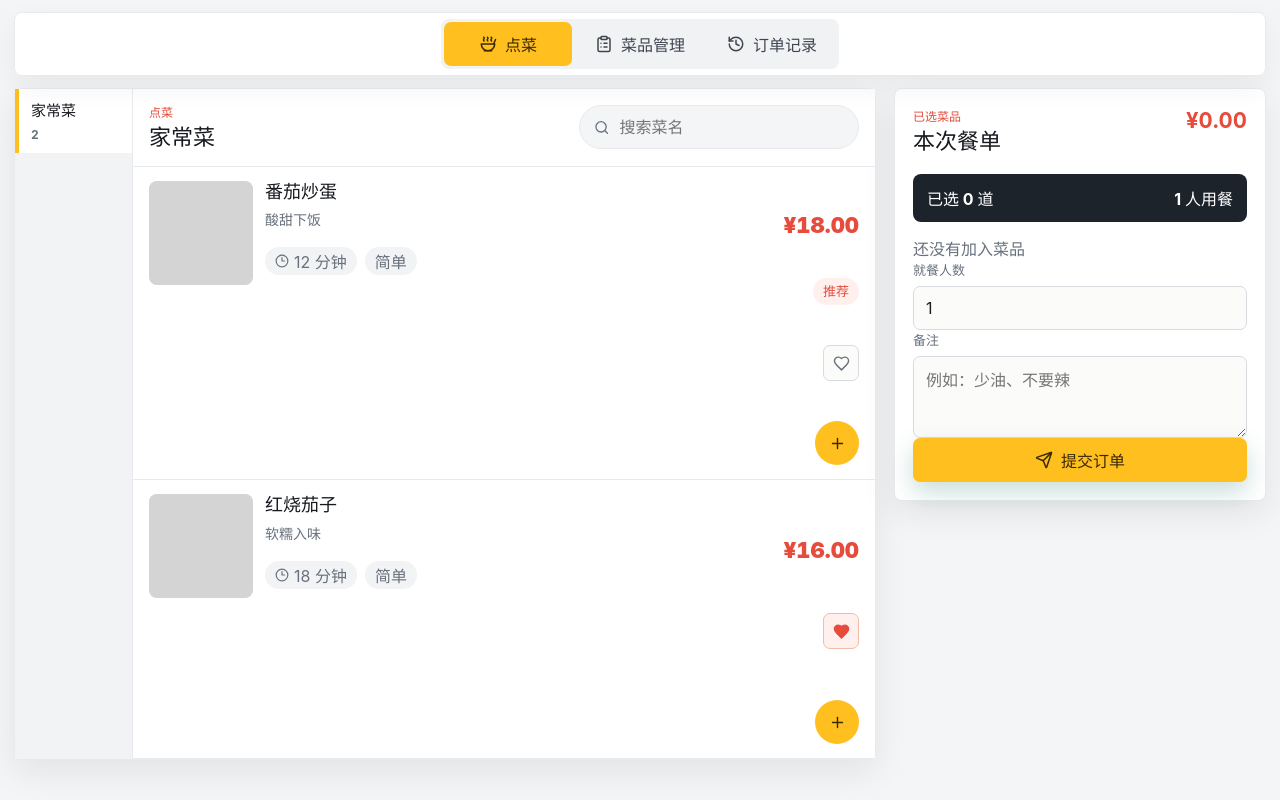
Test: App › deletes an order from order history
Expected: the text "番茄炒蛋" is shown, top-left (265, 180), bottom-right (337, 202)
Click the button "订单记录": (772, 44) top-left (708, 22), bottom-right (836, 66)
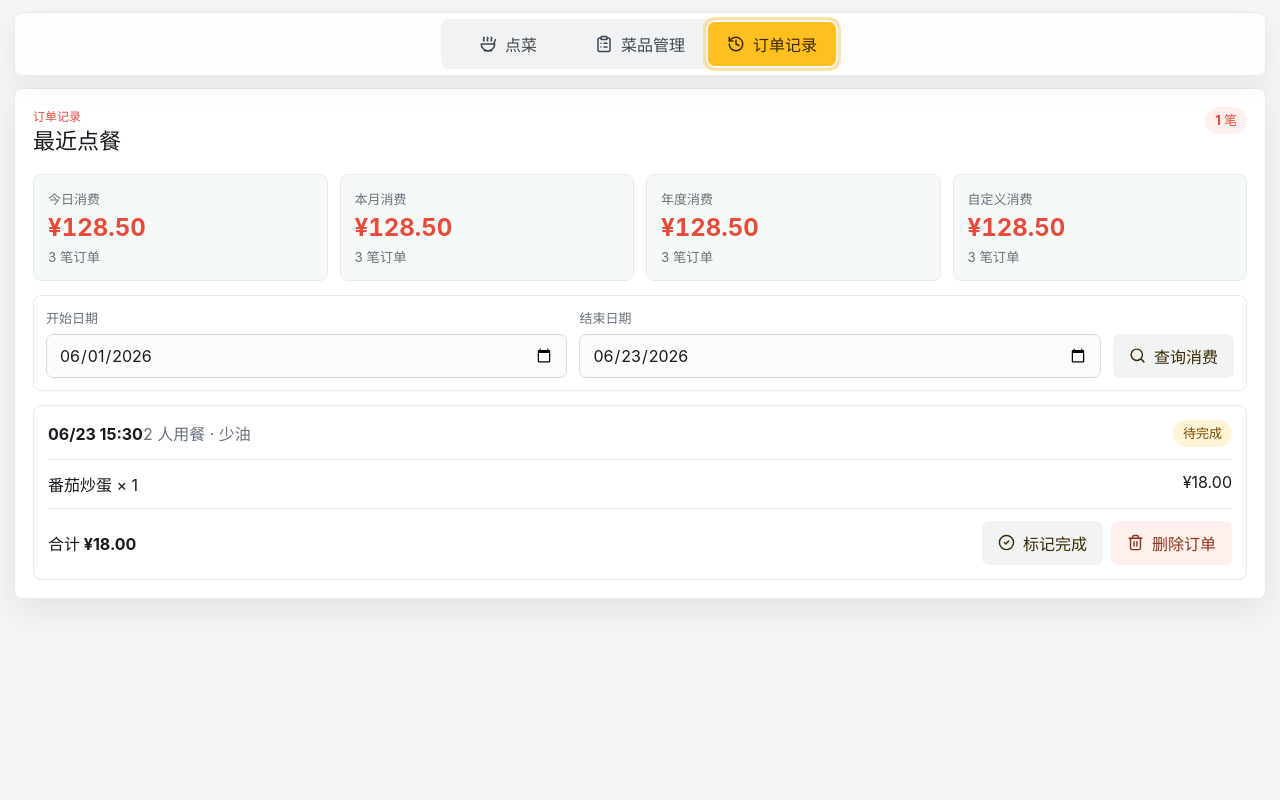
Now the text "番茄炒蛋 × 1" is shown, box top-left (48, 472), bottom-right (138, 496)
Click the button "删除订单": (1172, 542) top-left (1111, 520), bottom-right (1232, 564)
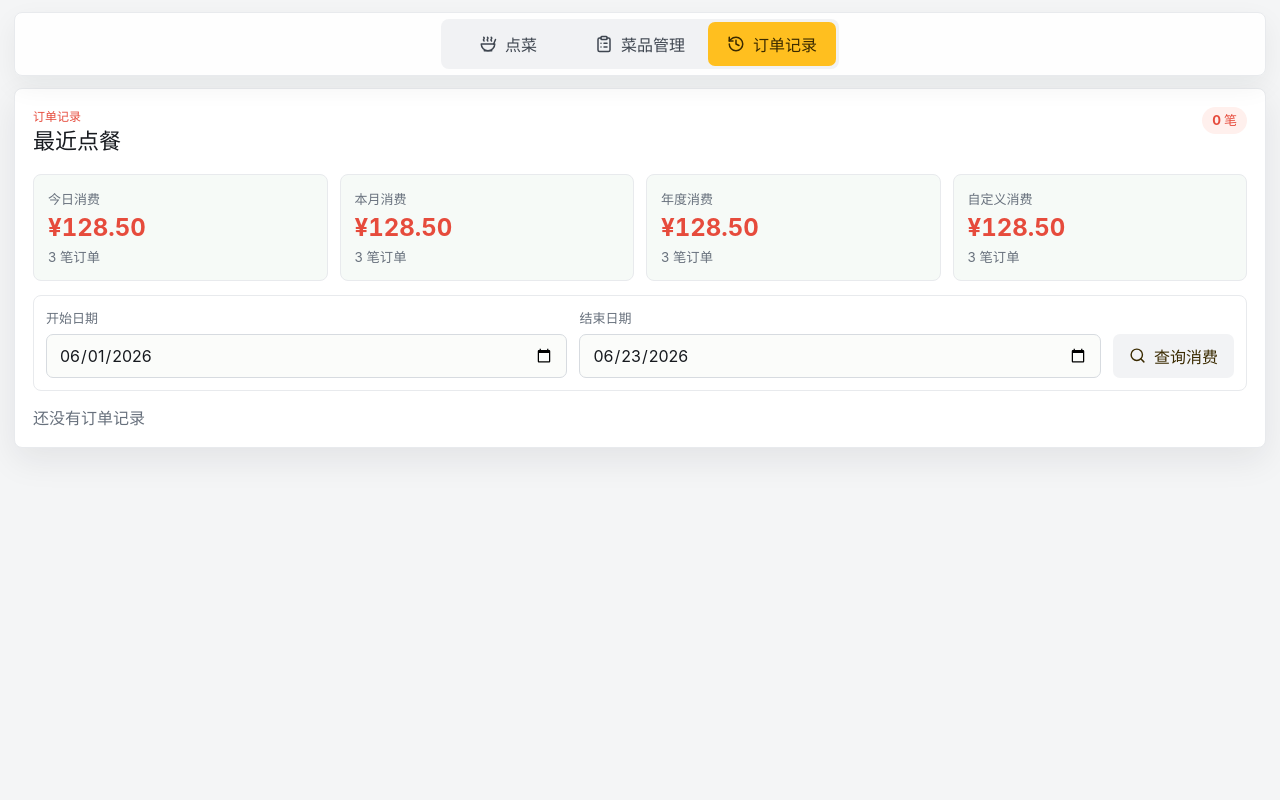
Now the text "番茄炒蛋 × 1" is gone
